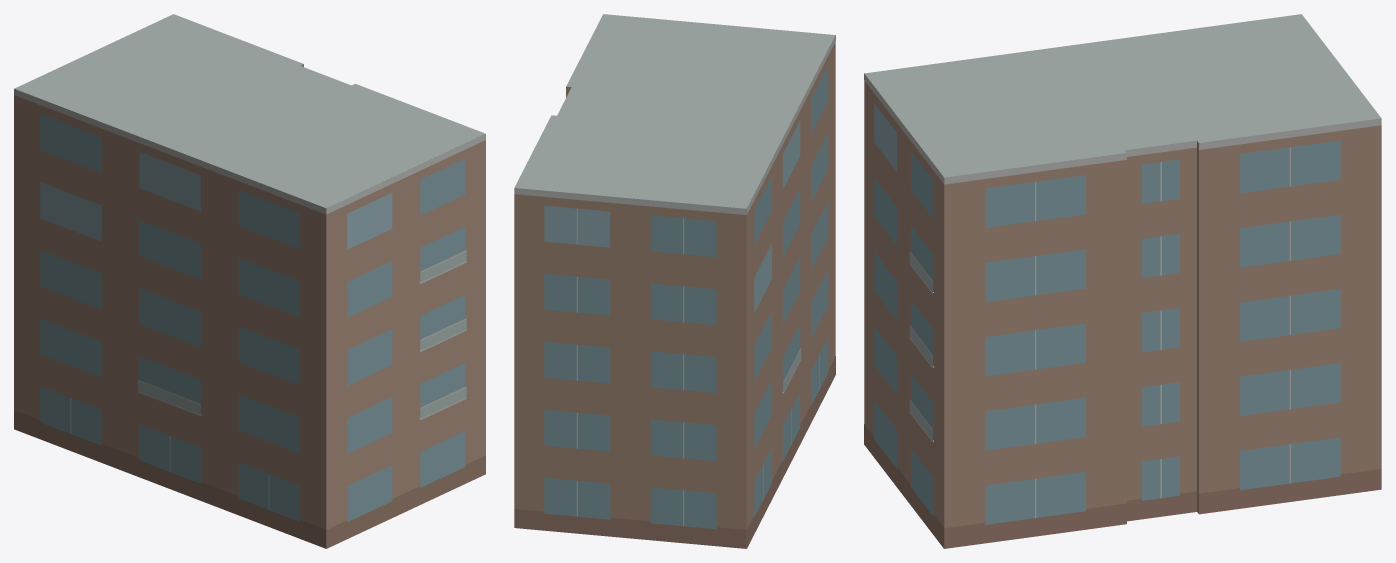
Rendered from survey-upis-32611005.glb.
3 renders of one model, left to right at view 1: azimuth 30°, elevation 25°; view 2: azimuth 150°, elevation 25°; view 3: azimuth 270°, elevation 25°, orthographic. The views are drawn at different scales.
Visible parts, largest first — view 1: survey-upis-32611005.tmp; view 2: survey-upis-32611005.tmp; view 3: survey-upis-32611005.tmp.
Part boxes in pixels (left/top/right/bottom): survey-upis-32611005.tmp: left=14, top=14, right=485, bottom=548; survey-upis-32611005.tmp: left=514, top=14, right=835, bottom=548; survey-upis-32611005.tmp: left=864, top=14, right=1381, bottom=548.
Size of the model in its own units: 12.49 by 13.2 by 16.69.
